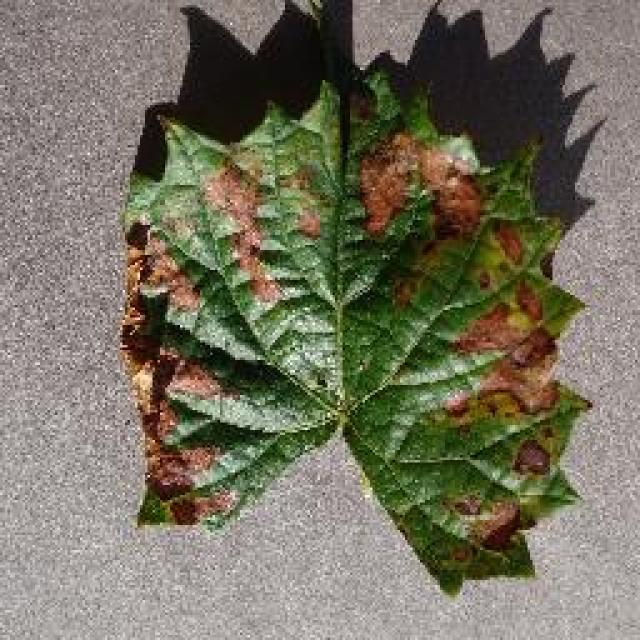Black_Measles: (98, 36, 606, 608)
